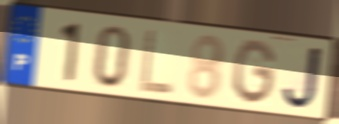0: (92, 24, 132, 89)
1: (59, 21, 85, 84)
8: (185, 33, 228, 103)
G: (231, 37, 278, 107)
J: (280, 44, 325, 111)
L: (138, 27, 176, 97)
